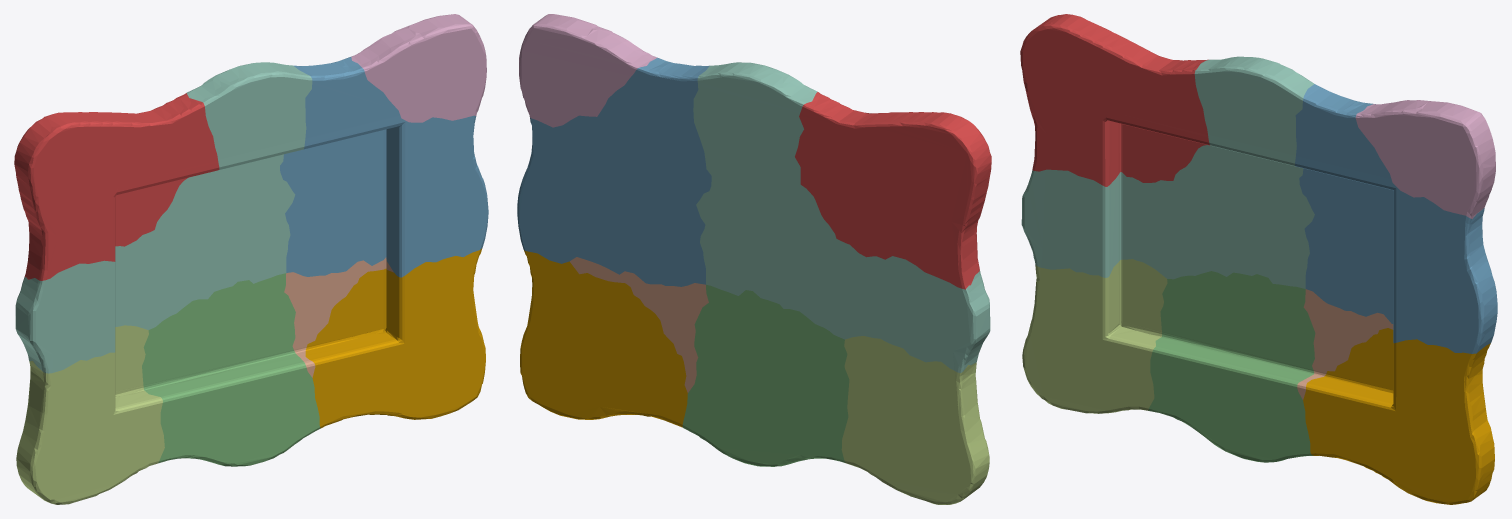
File: fractured_65_8pcs.glb
3 views of the same model, side by side, from view 1: azimuth 30°, elevation 25°; view 2: azimuth 150°, elevation 25°; view 3: azimuth 330°, elevation 25° (orthographic).
Parts seen in each view (by area): view 1: piece_4.obj, piece_2.obj, piece_3.obj, piece_1.obj, piece_0.obj, piece_5.obj, piece_6.obj, piece_7.obj; view 2: piece_4.obj, piece_2.obj, piece_1.obj, piece_3.obj, piece_0.obj, piece_5.obj, piece_6.obj, piece_7.obj; view 3: piece_4.obj, piece_2.obj, piece_3.obj, piece_0.obj, piece_1.obj, piece_5.obj, piece_6.obj, piece_7.obj.
Part boxes in pixels (x1,y1,x2,y2): piece_4.obj: (15,62,312,373); piece_2.obj: (280,56,488,277); piece_3.obj: (142,273,320,466); piece_1.obj: (14,93,219,280); piece_0.obj: (305,248,485,428); piece_5.obj: (16,325,164,504); piece_6.obj: (351,14,486,122); piece_7.obj: (284,257,393,377); piece_4.obj: (693,62,990,372); piece_2.obj: (517,58,711,286); piece_1.obj: (795,92,991,289); piece_3.obj: (682,284,849,466); piece_0.obj: (520,250,687,427); piece_5.obj: (841,336,989,504); piece_6.obj: (519,14,657,127); piece_7.obj: (570,257,708,392); piece_4.obj: (1021,56,1314,288); piece_2.obj: (1295,84,1497,353); piece_3.obj: (1148,271,1315,462); piece_0.obj: (1303,328,1494,504); piece_1.obj: (1020,14,1209,186); piece_5.obj: (1022,259,1167,413); piece_6.obj: (1355,100,1495,218); piece_7.obj: (1297,289,1393,399).
Size of the model in its own units: 1 by 0.8105 by 0.0645.
